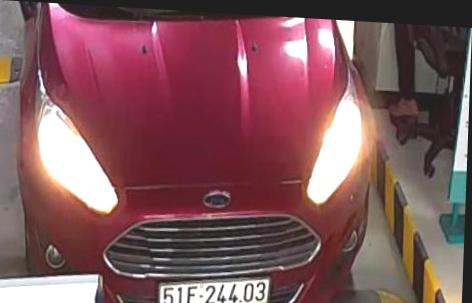License_Plate: (161, 273, 272, 303)
